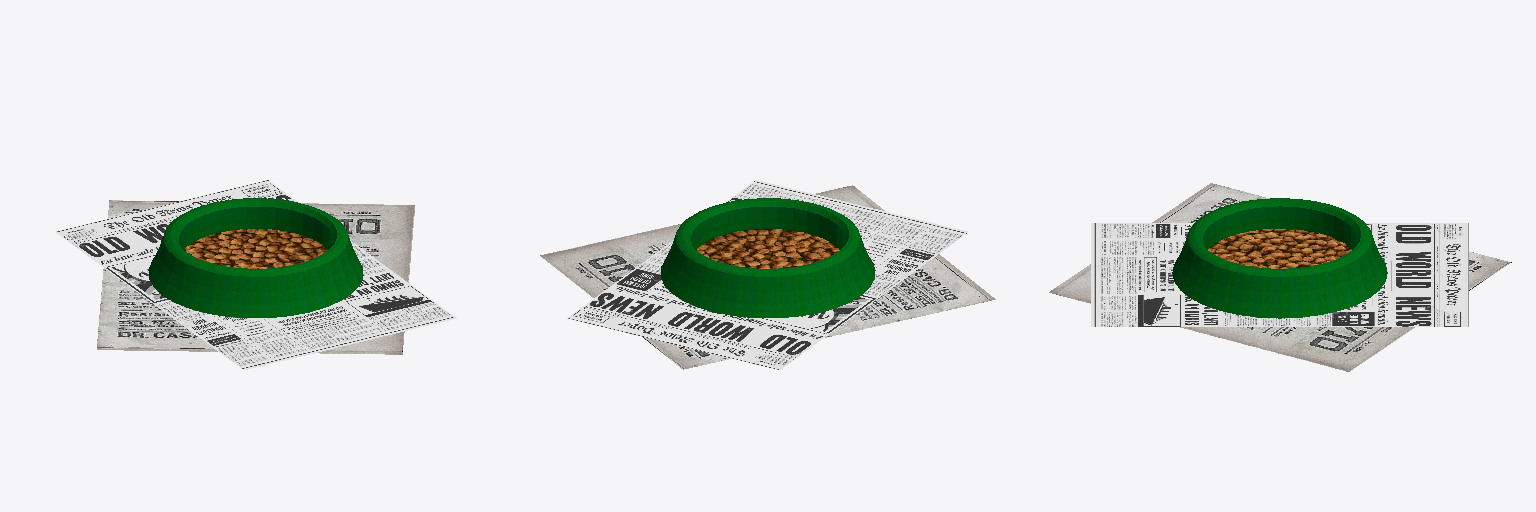
3 renders of one model, left to right at view 1: azimuth 30°, elevation 25°; view 2: azimuth 150°, elevation 25°; view 3: azimuth 270°, elevation 25°, orthographic.
Parts seen in each view (by area): view 1: Cylinder, Plane, Plane.001; view 2: Cylinder, Plane, Plane.001; view 3: Plane, Cylinder, Plane.001.
Part boxes in pixels (left/top/right/bottom): Cylinder: left=148, top=198, right=363, bottom=317; Plane: left=56, top=180, right=456, bottom=369; Plane.001: left=97, top=200, right=414, bottom=354; Cylinder: left=660, top=198, right=875, bottom=317; Plane: left=567, top=180, right=967, bottom=369; Plane.001: left=540, top=185, right=995, bottom=369; Plane: left=1091, top=223, right=1468, bottom=326; Cylinder: left=1172, top=198, right=1387, bottom=318; Plane.001: left=1049, top=183, right=1511, bottom=371.
Size of the model in its own units: 3.64 by 0.3861 by 3.76.
4 materials, 4 textured.